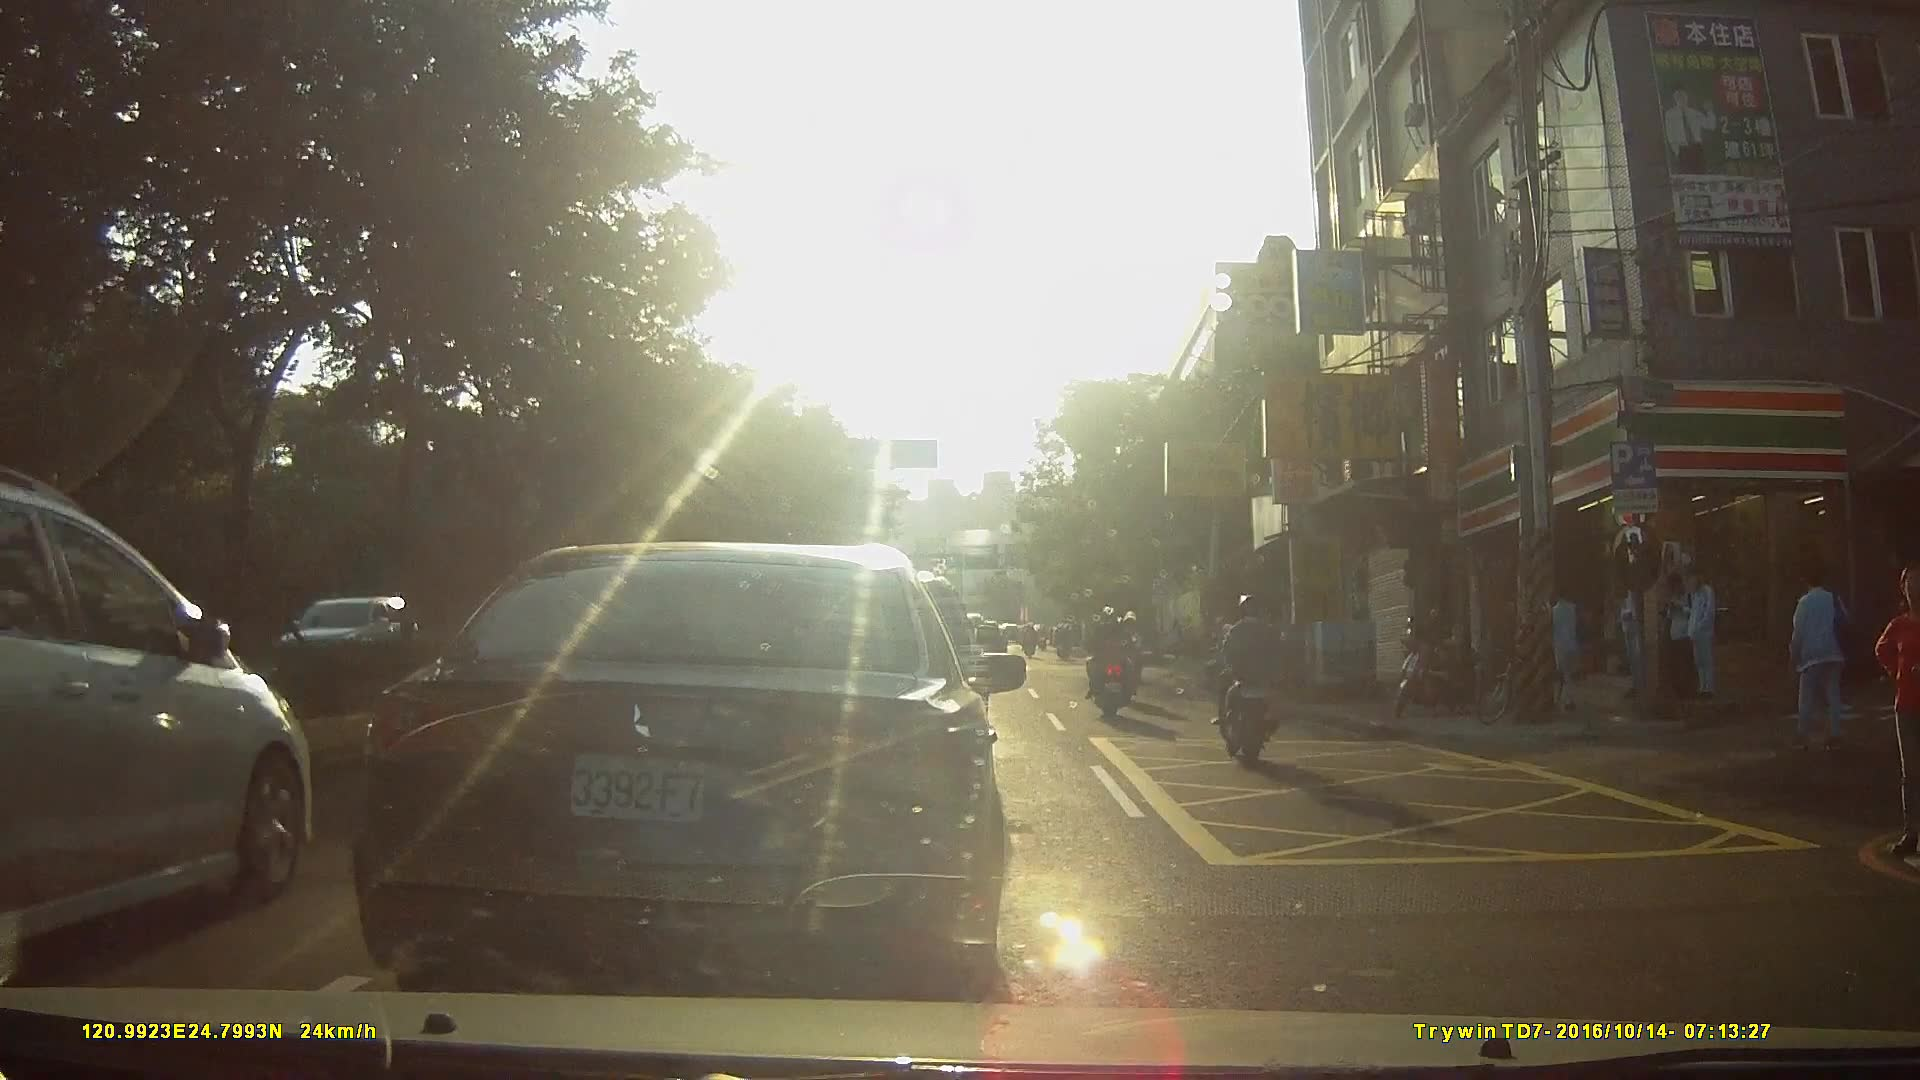pedestrian: (1781, 566, 1857, 759), (1873, 567, 1920, 854), (1532, 579, 1580, 715), (1674, 569, 1720, 700), (1614, 573, 1655, 708), (1662, 567, 1700, 711)
rider: (1216, 595, 1288, 764), (1085, 608, 1137, 719), (1054, 622, 1076, 664), (1021, 624, 1041, 663)
vehicle: (365, 543, 1036, 983), (1, 458, 363, 950), (280, 593, 428, 699)
